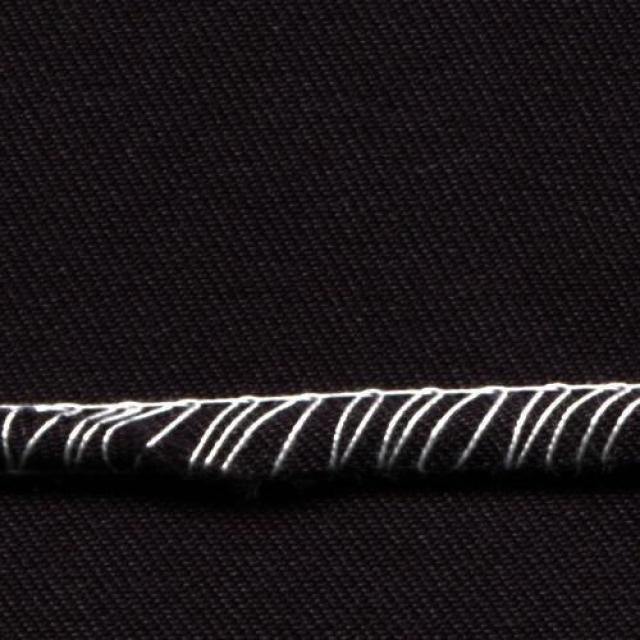gray stitch: (9, 376, 640, 476)
